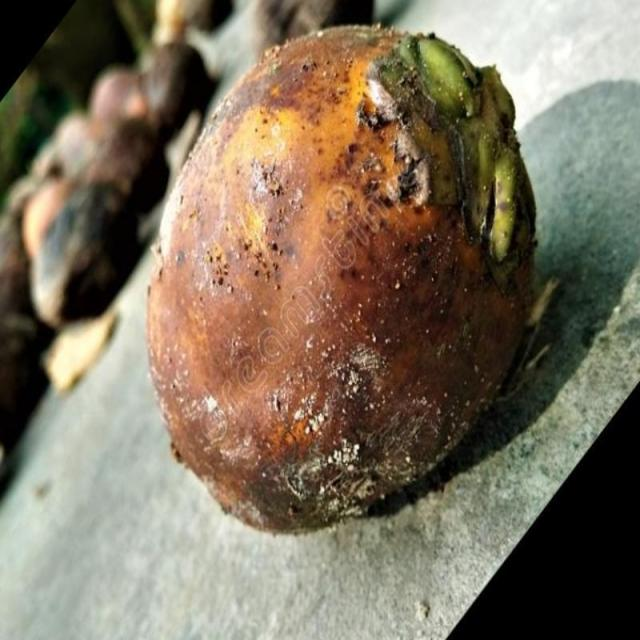damaged: (145, 26, 548, 539)
